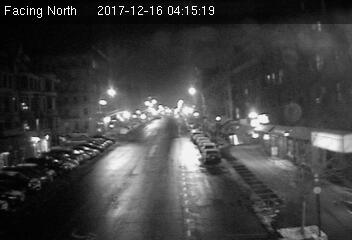car: (201, 148, 221, 163)
